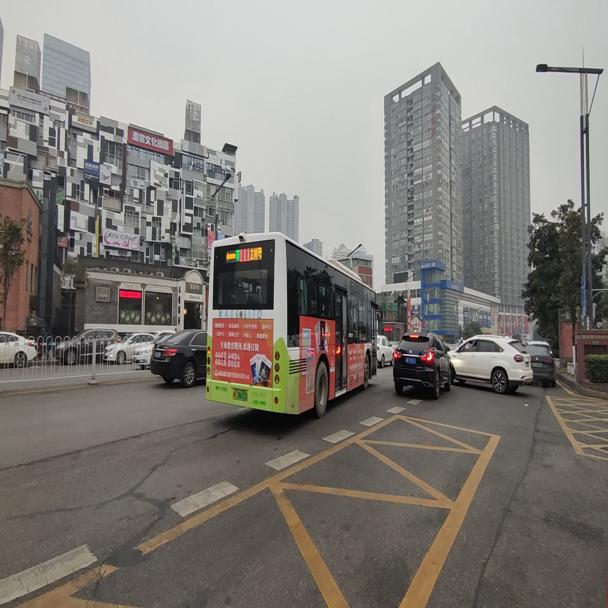bus: (204, 231, 382, 418)
screen: (237, 243, 251, 263)
